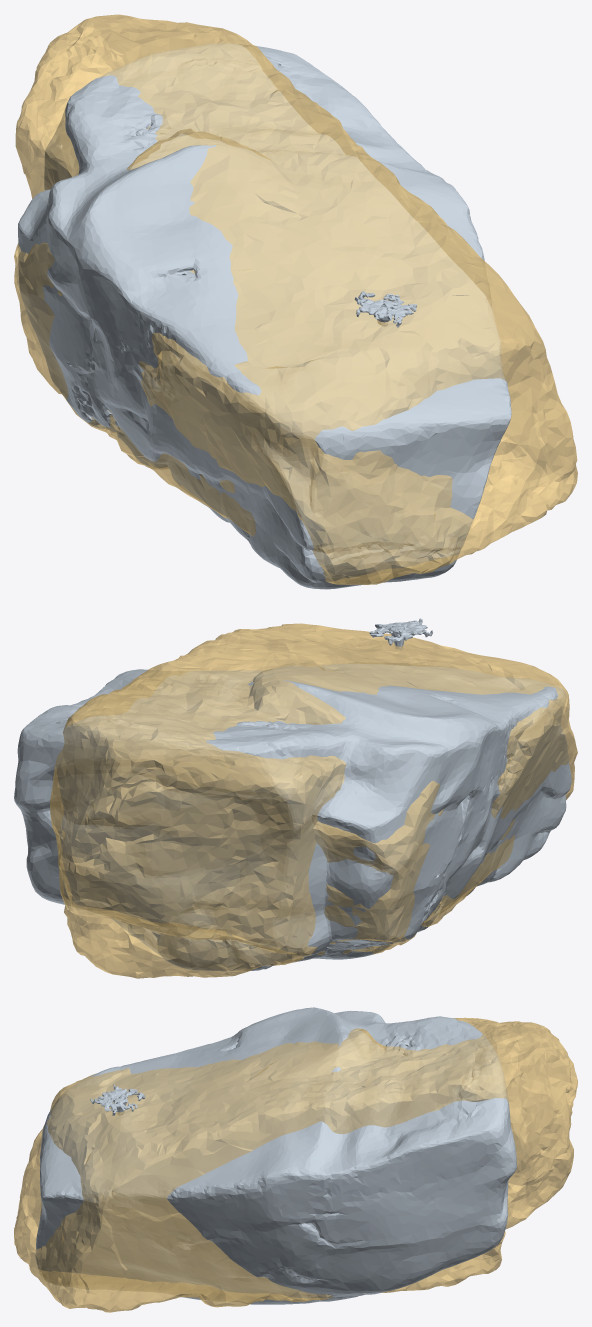
The picture shows the model from 3 angles, top to bottom: view 1: azimuth 30°, elevation 25°; view 2: azimuth 150°, elevation 25°; view 3: azimuth 270°, elevation 25°; orthographic projection. The views are drawn at different scales.
Visible parts, largest first — view 1: imagination, truth; view 2: imagination, truth; view 3: imagination, truth.
Part boxes in pixels (<box>): imagination: <box>18,43,511,589</box>; truth: <box>14,14,577,584</box>; imagination: <box>14,618,571,970</box>; truth: <box>50,623,577,978</box>; imagination: <box>35,1007,516,1304</box>; truth: <box>14,1017,577,1312</box>.
Bounding box in the file's own units: 0.7407 × 0.611 × 1.26.
